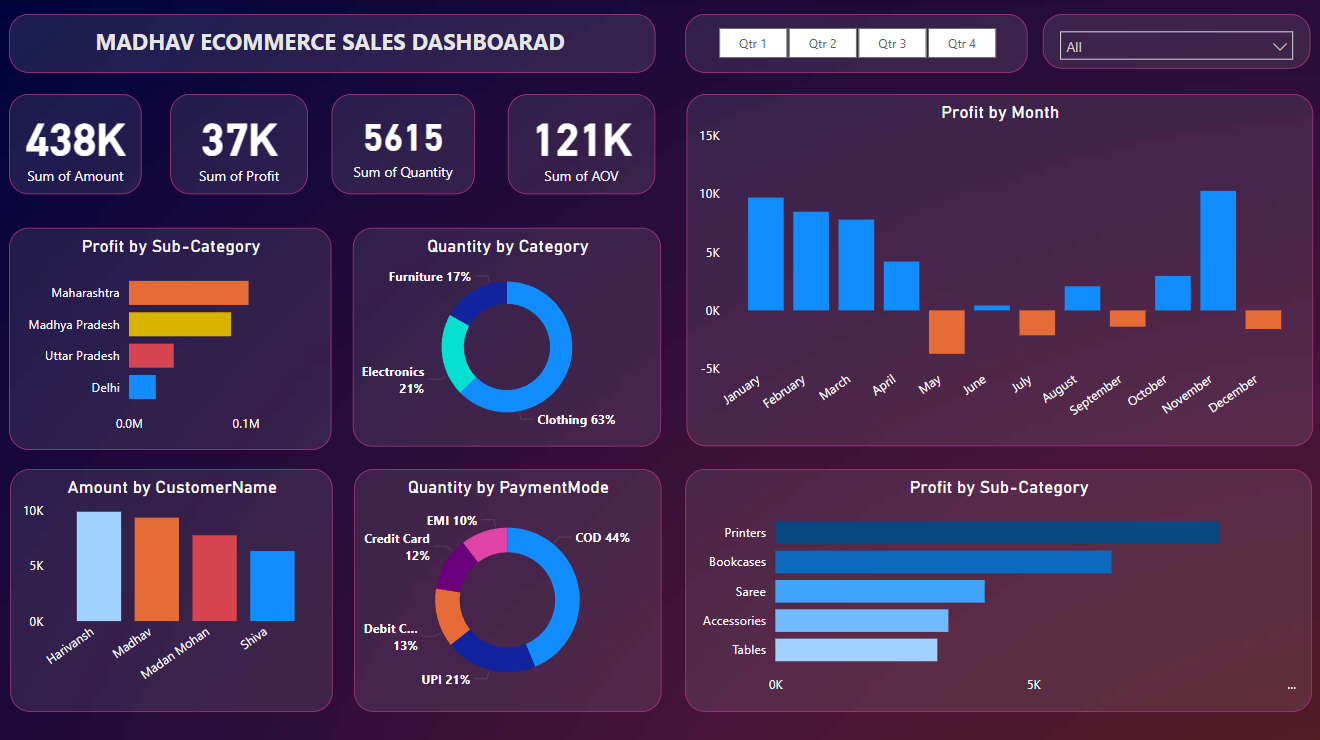

The dashboard page shown, as its layout file describes it:
{"tool":"powerbi","page":{"name":"Page 1","canvas":[1280,720],"ordinal":0},"visuals":[{"type":"textbox","box":[9.7,14.5,623.7,56.7],"z":0},{"type":"columnChart","title":"Profit by Month","fields":{"Category":["Orders.Order Date.Variation.Date Hierarchy.Month"],"Y":["Sum(Details.Profit)"]},"box":[663.5,91.7,604.4,340.2],"z":1000},{"type":"barChart","title":"Profit by Sub-Category","fields":{"Category":["Details.Sub-Category"],"Y":["Sum(Details.Profit)"]},"box":[662.3,453.6,604.4,234],"z":2000},{"type":"donutChart","title":"Quantity by Category","fields":{"Category":["Details.Category"],"Y":["Sum(Details.Quantity)"]},"box":[341.4,220.8,298,211.1],"z":3000},{"type":"donutChart","title":"Quantity by PaymentMode","fields":{"Y":["Sum(Details.Quantity)"],"Category":["Details.PaymentMode"]},"box":[342.6,453.6,296.8,234],"z":4000},{"type":"card","fields":{"Values":["Sum(Details.Amount)"]},"box":[9.7,91.7,127.9,96.5],"z":5000},{"type":"card","fields":{"Values":["Sum(Details.Profit)"]},"box":[165.3,91.7,132.7,96.5],"z":6000},{"type":"card","fields":{"Values":["Sum(Details.Quantity)"]},"box":[320.9,91.7,138.7,96.5],"z":7000},{"type":"card","fields":{"Values":["Sum(Details.AOV)"]},"box":[491,91.7,142.4,96.5],"z":8000},{"type":"barChart","title":"Profit by Sub-Category","fields":{"Category":["Orders.State"],"Y":["Sum(Details.Amount)"]},"box":[9.7,220.8,311.3,214.7],"z":9000},{"type":"columnChart","title":"Amount by CustomerName","fields":{"Category":["Orders.CustomerName"],"Y":["Sum(Details.Amount)"]},"box":[10.9,453.6,311.3,234],"z":10000},{"type":"slicer","fields":{"Values":["Orders.Order Date.Variation.Date Hierarchy.Quarter"]},"box":[662.3,14.5,330.6,56.7],"z":11000},{"type":"slicer","fields":{"Values":["Orders.State"]},"box":[1007.4,14.5,258.2,53.1],"z":12000}]}

Visuals, with their boxes in screenshot pixels (x1, y1, x2, y2), scaled from the page's 1280x720 canvas onto the 1320x740 screenshot:
textbox: locate(10, 15, 653, 73)
"Profit by Month" columnChart: locate(684, 94, 1308, 444)
"Profit by Sub-Category" barChart: locate(683, 466, 1306, 707)
"Quantity by Category" donutChart: locate(352, 227, 659, 444)
"Quantity by PaymentMode" donutChart: locate(353, 466, 659, 707)
card - Sum(Details.Amount): locate(10, 94, 142, 193)
card - Sum(Details.Profit): locate(170, 94, 307, 193)
card - Sum(Details.Quantity): locate(331, 94, 474, 193)
card - Sum(Details.AOV): locate(506, 94, 653, 193)
"Profit by Sub-Category" barChart: locate(10, 227, 331, 448)
"Amount by CustomerName" columnChart: locate(11, 466, 332, 707)
slicer - Orders.Order Date.Variation.Date Hierarchy.Quarter: locate(683, 15, 1024, 73)
slicer - Orders.State: locate(1039, 15, 1305, 69)
